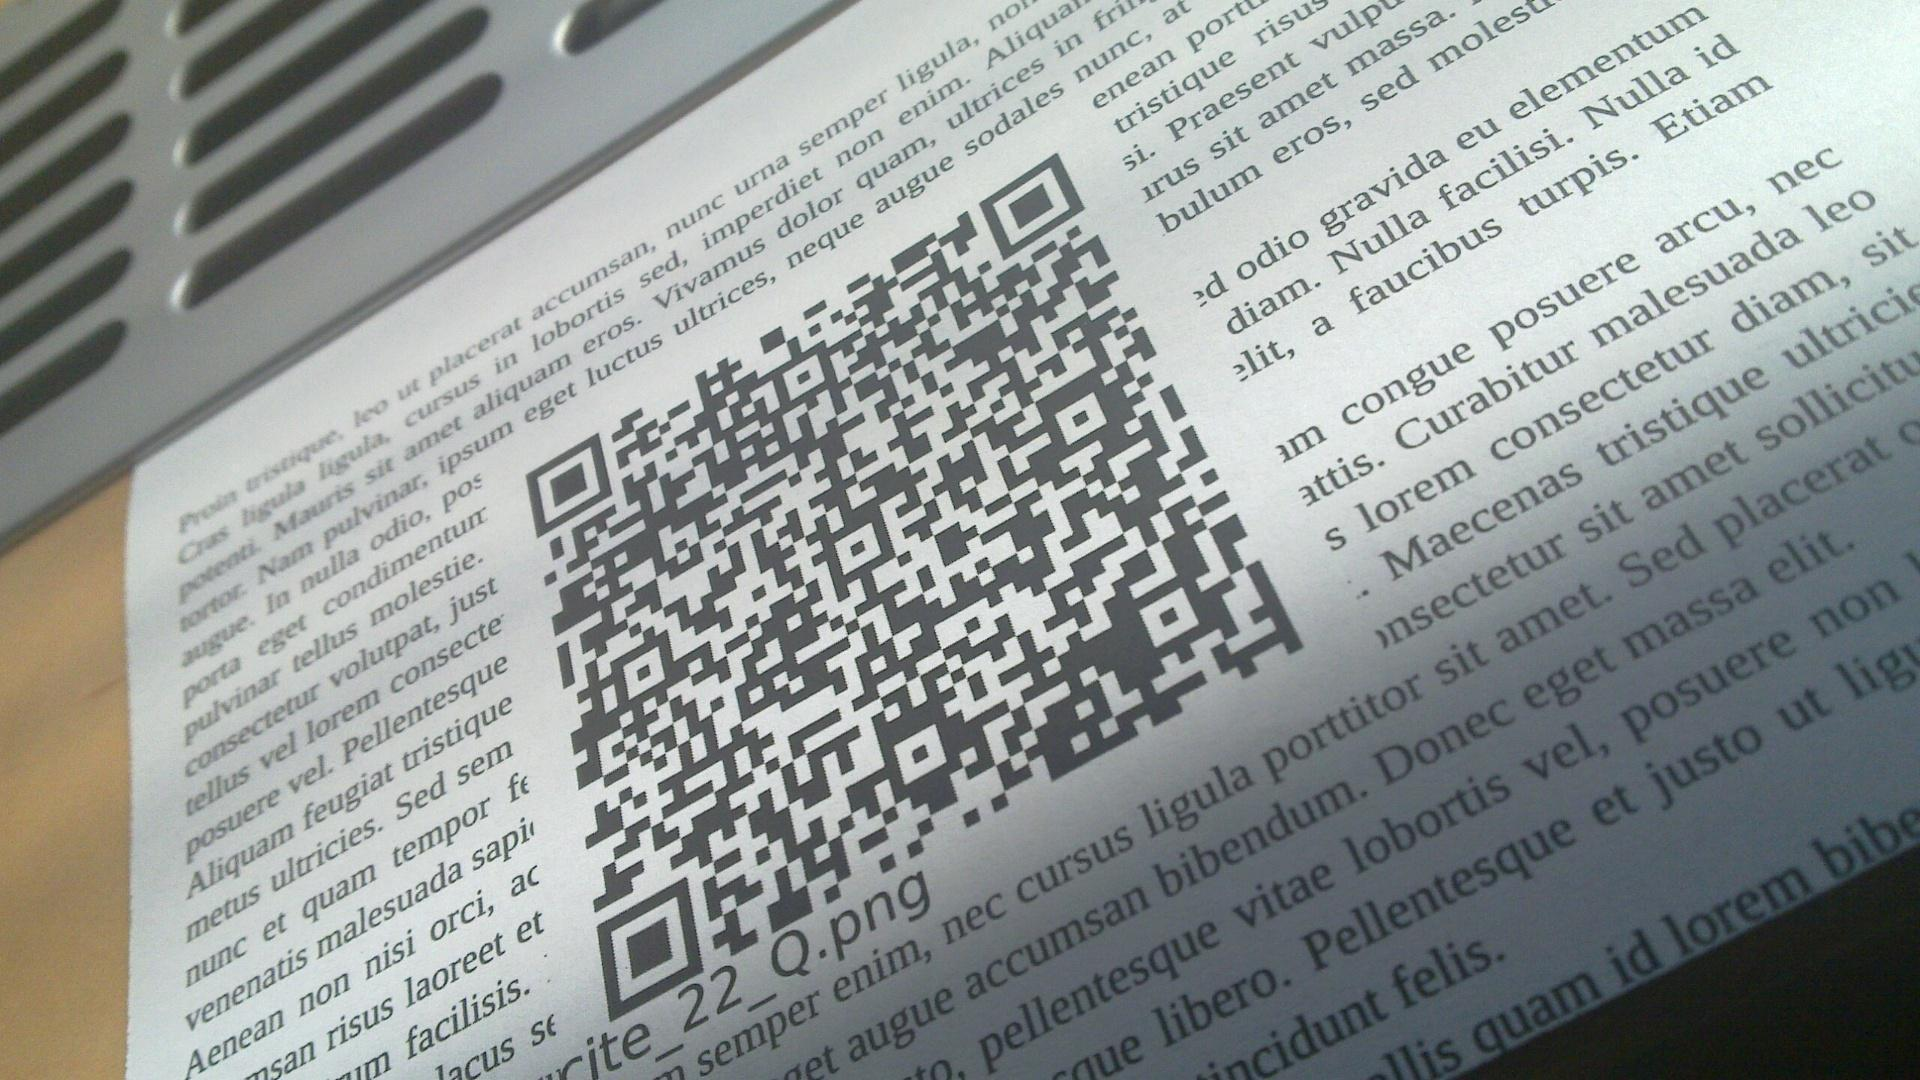qr_code: (525, 153, 1305, 1023)
